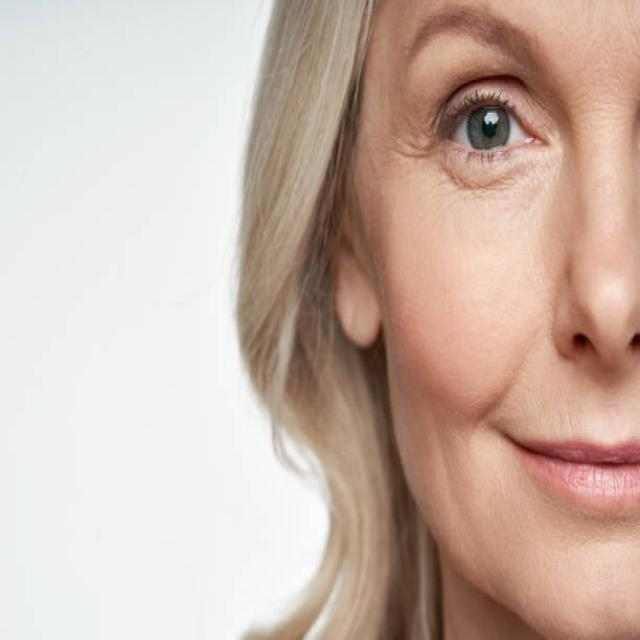Dry-Skin: (326, 72, 448, 403)
